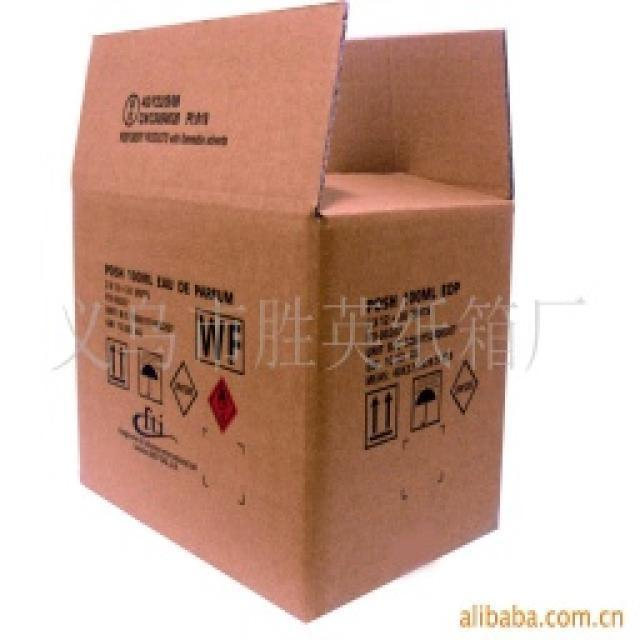box: (46, 11, 531, 632)
